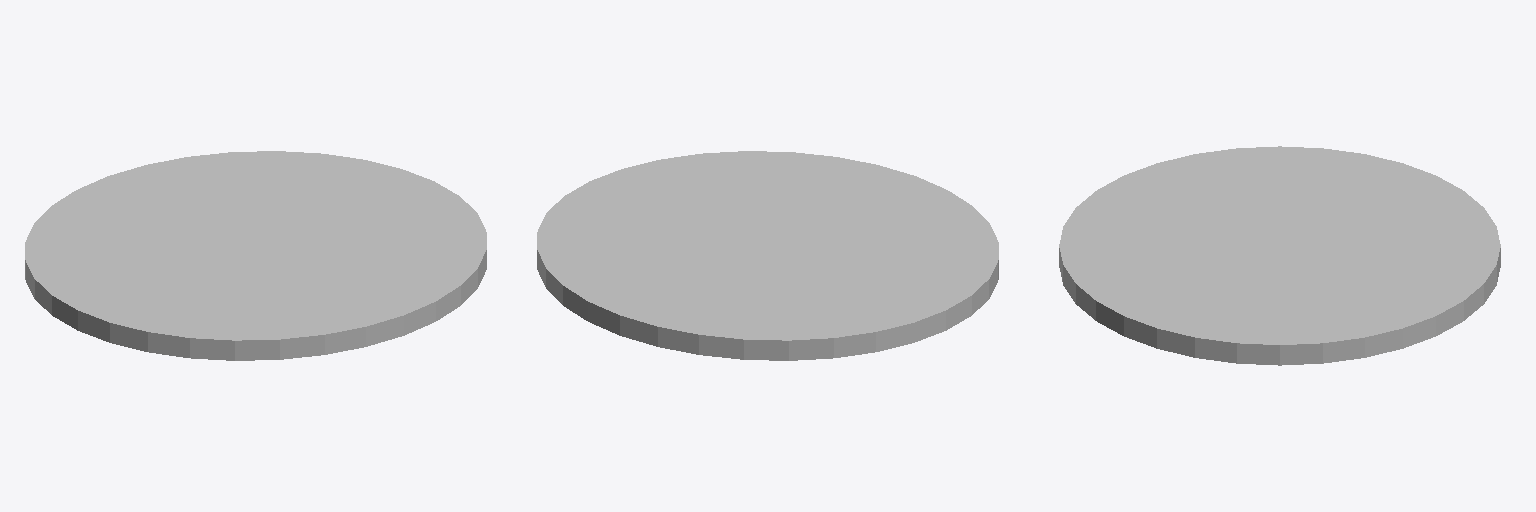
The model's file is tree stump 5.obj.
3 renders of one model, left to right at view 1: azimuth 30°, elevation 25°; view 2: azimuth 150°, elevation 25°; view 3: azimuth 270°, elevation 25°, orthographic.
Parts seen in each view (by area): view 1: Cylinder; view 2: Cylinder; view 3: Cylinder.
Boxes of the visible parts, x1=… form: Cylinder: x1=25, y1=151, x2=486, y2=360; Cylinder: x1=537, y1=151, x2=998, y2=360; Cylinder: x1=1059, y1=146, x2=1500, y2=365.
Bounding box in the file's own units: 3.61 × 0.1722 × 3.39.